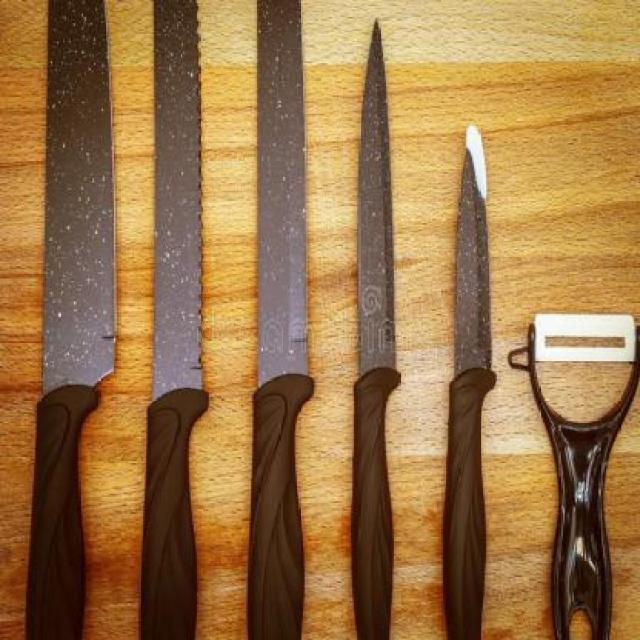-: (33, 3, 130, 452), (240, 1, 323, 517), (138, 0, 211, 525), (346, 0, 406, 535), (434, 77, 501, 488)
